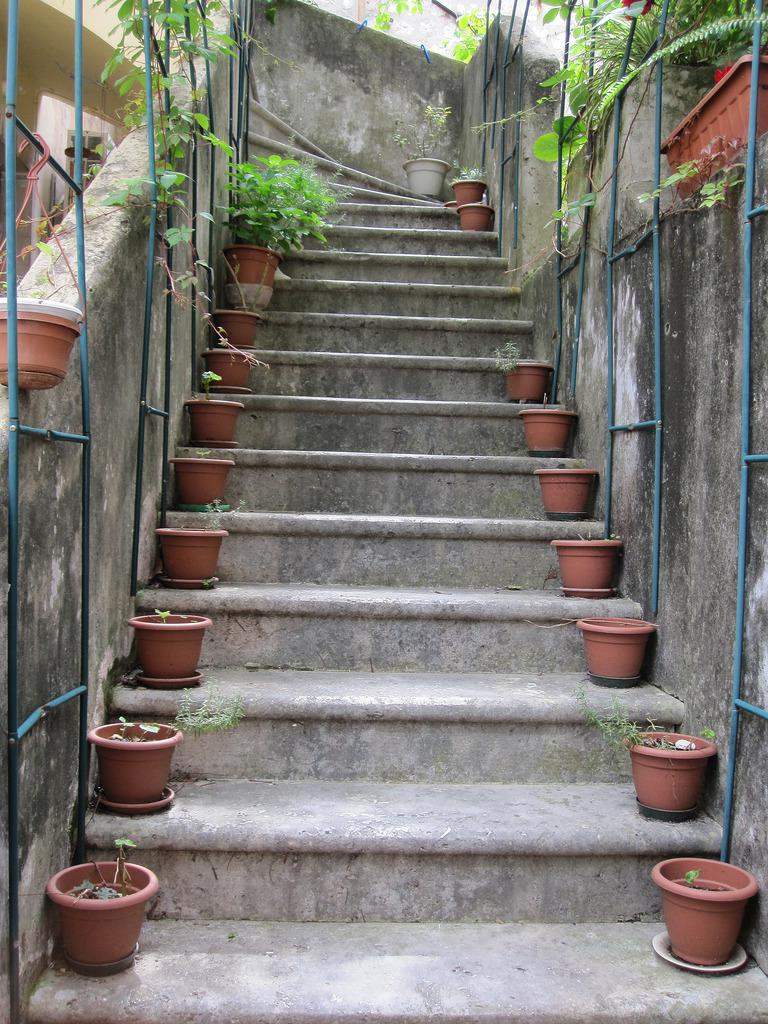stairs: (111, 150, 718, 947)
